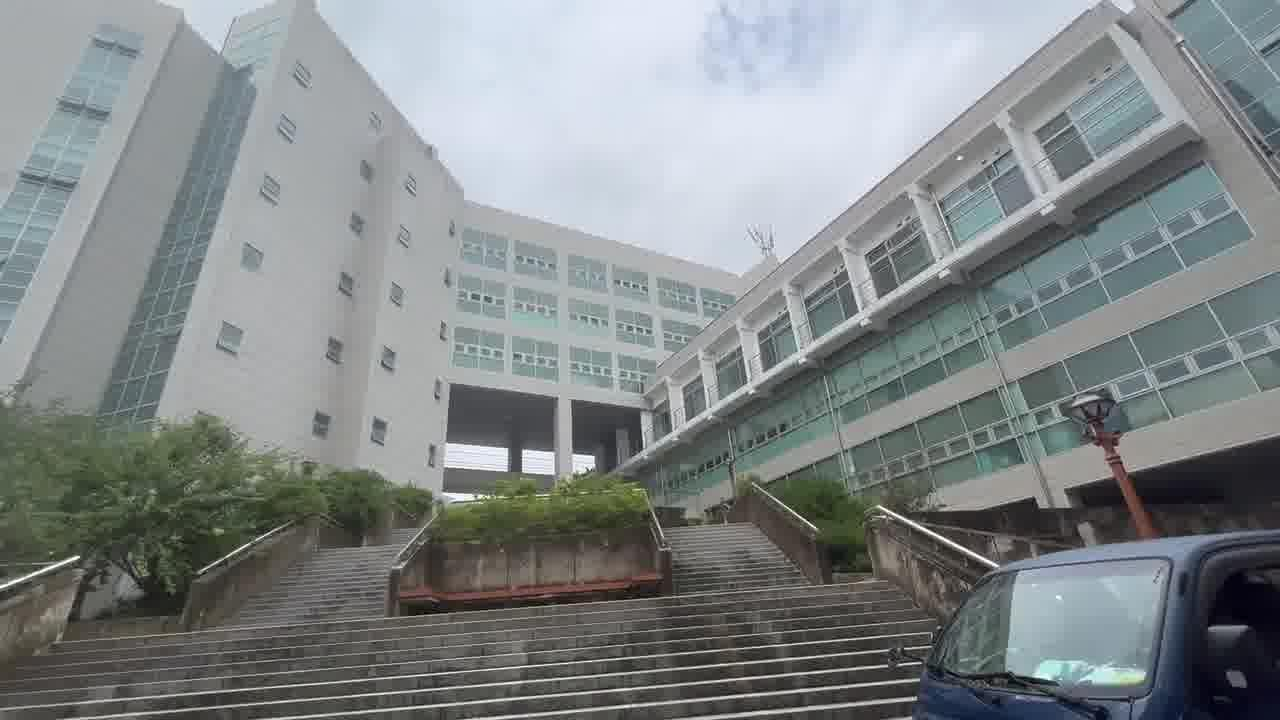building: (264, 93, 1013, 482)
